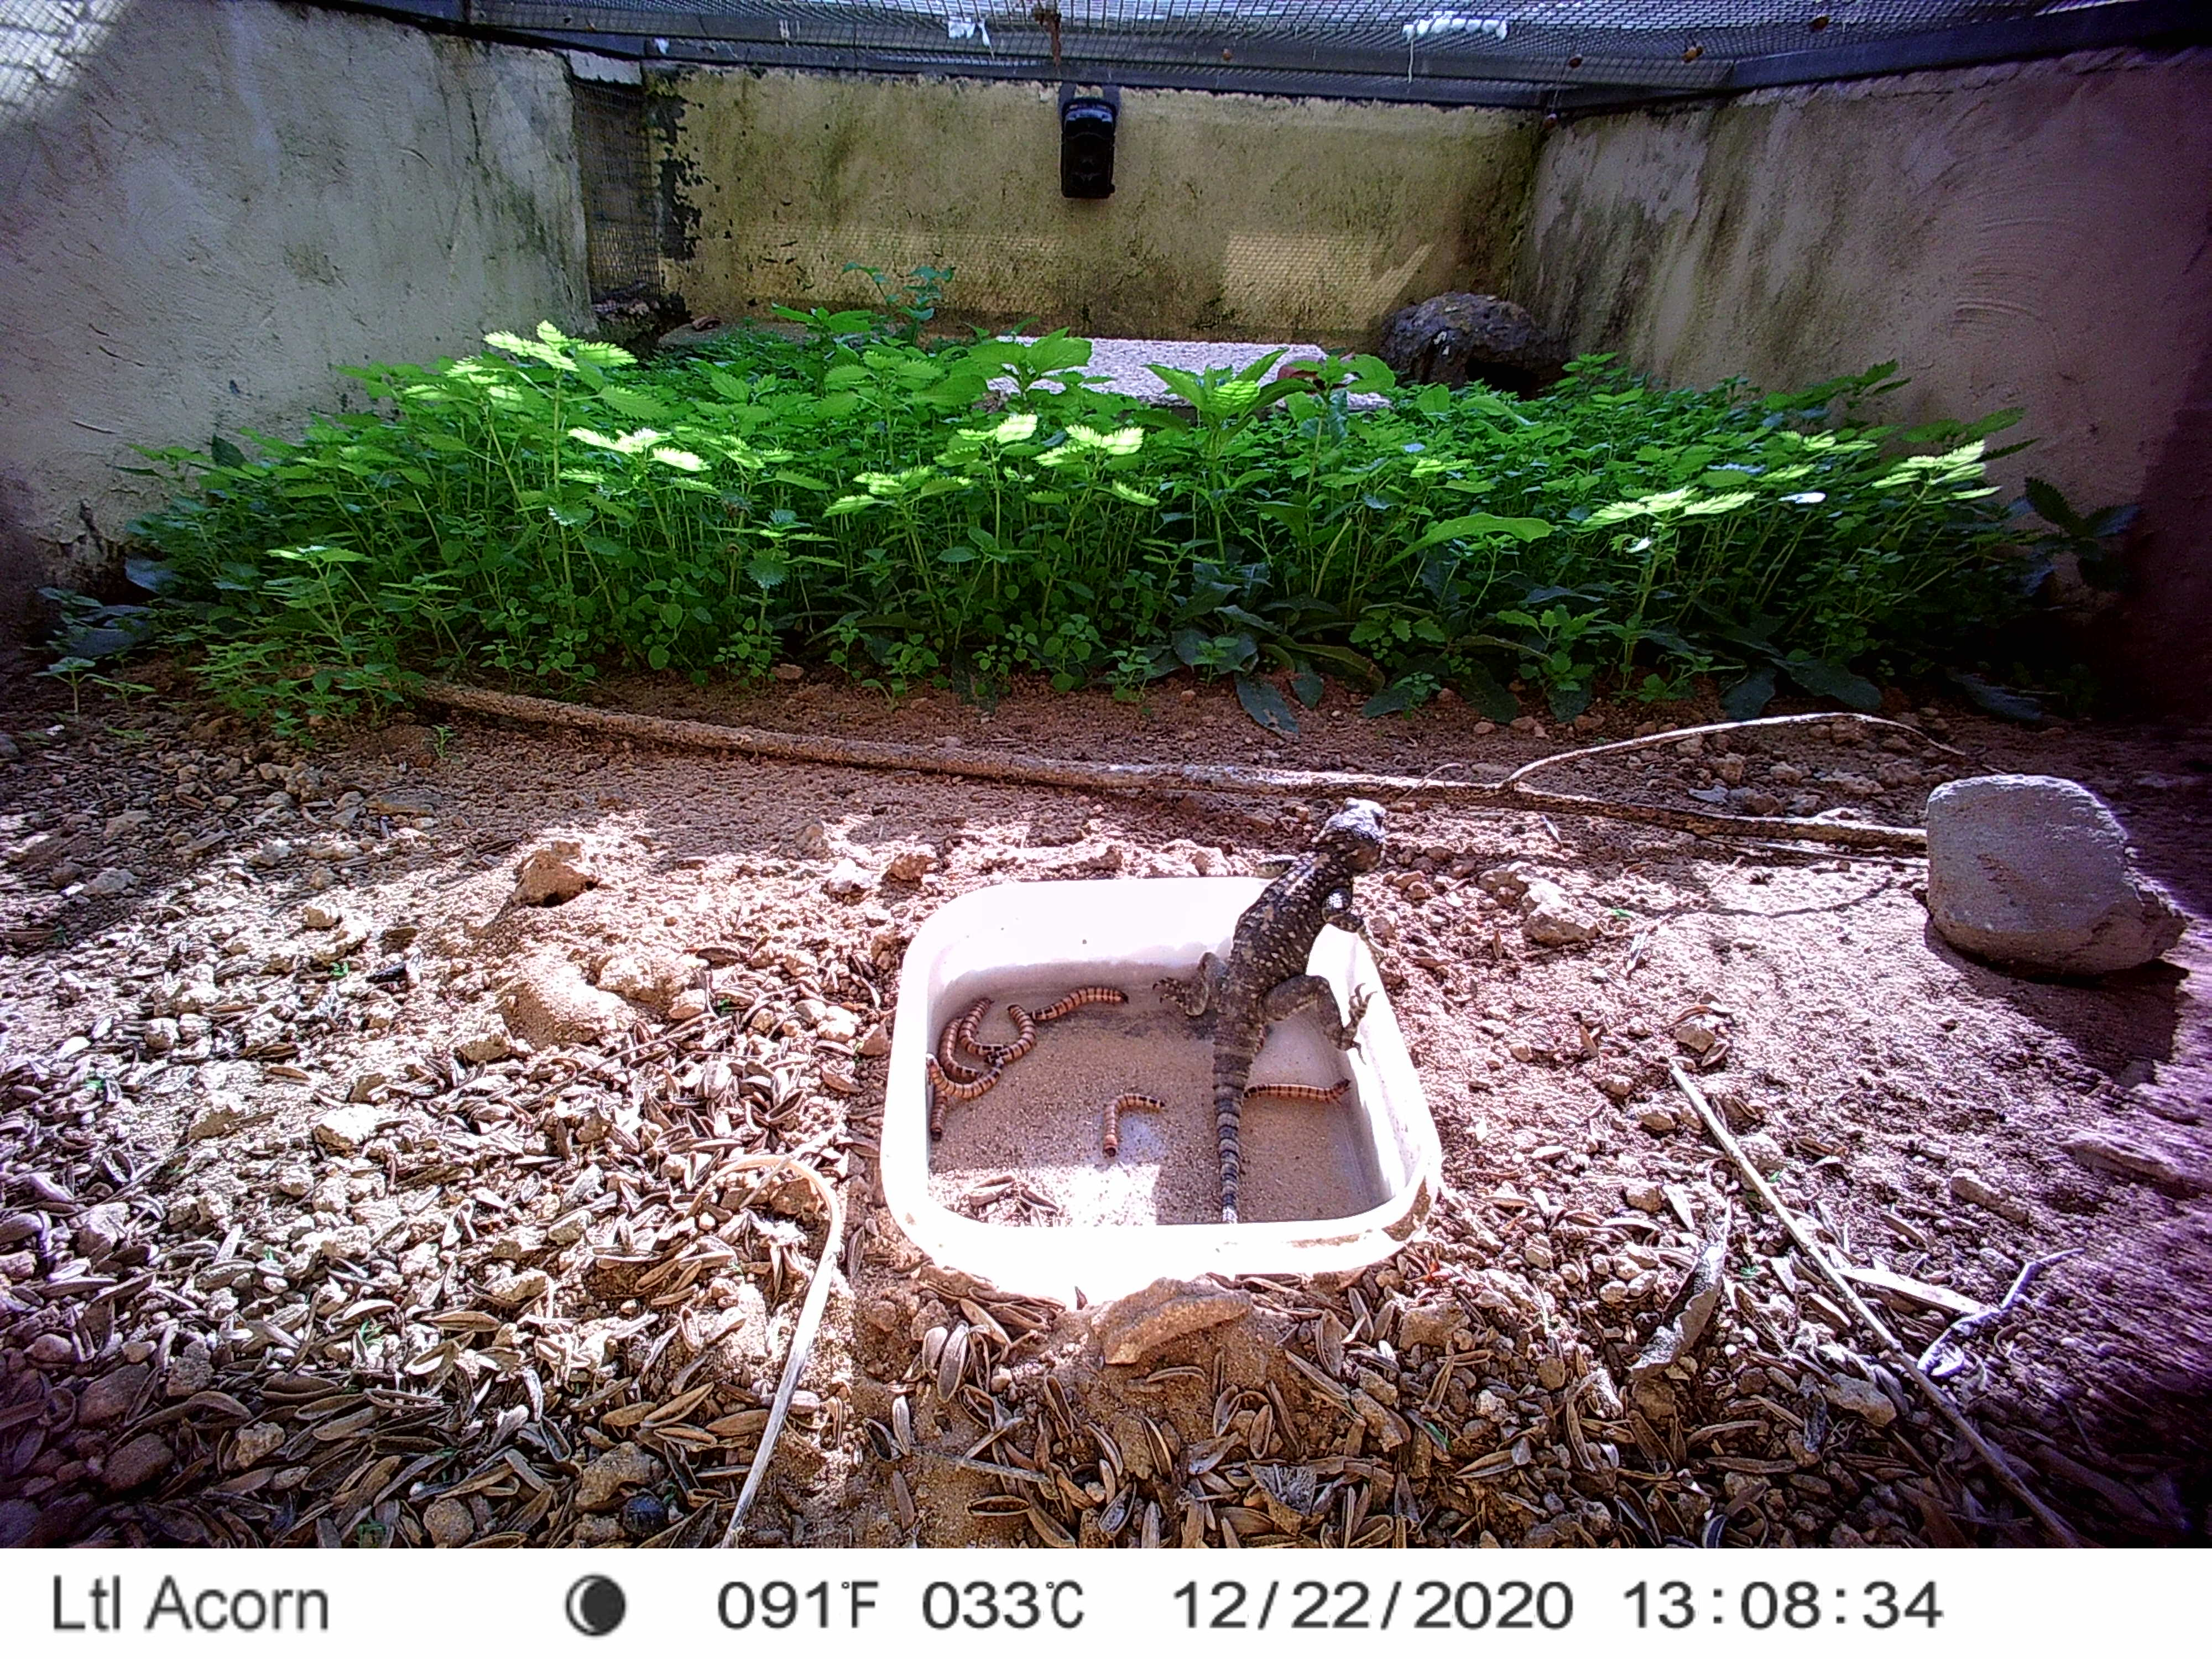lizard: (1176, 789, 1390, 1229)
